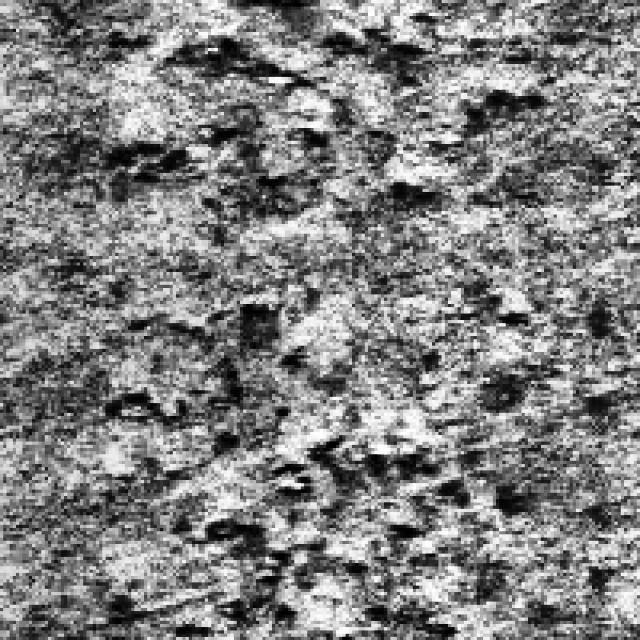Crazing: (121, 349, 522, 608), (124, 7, 532, 185)
